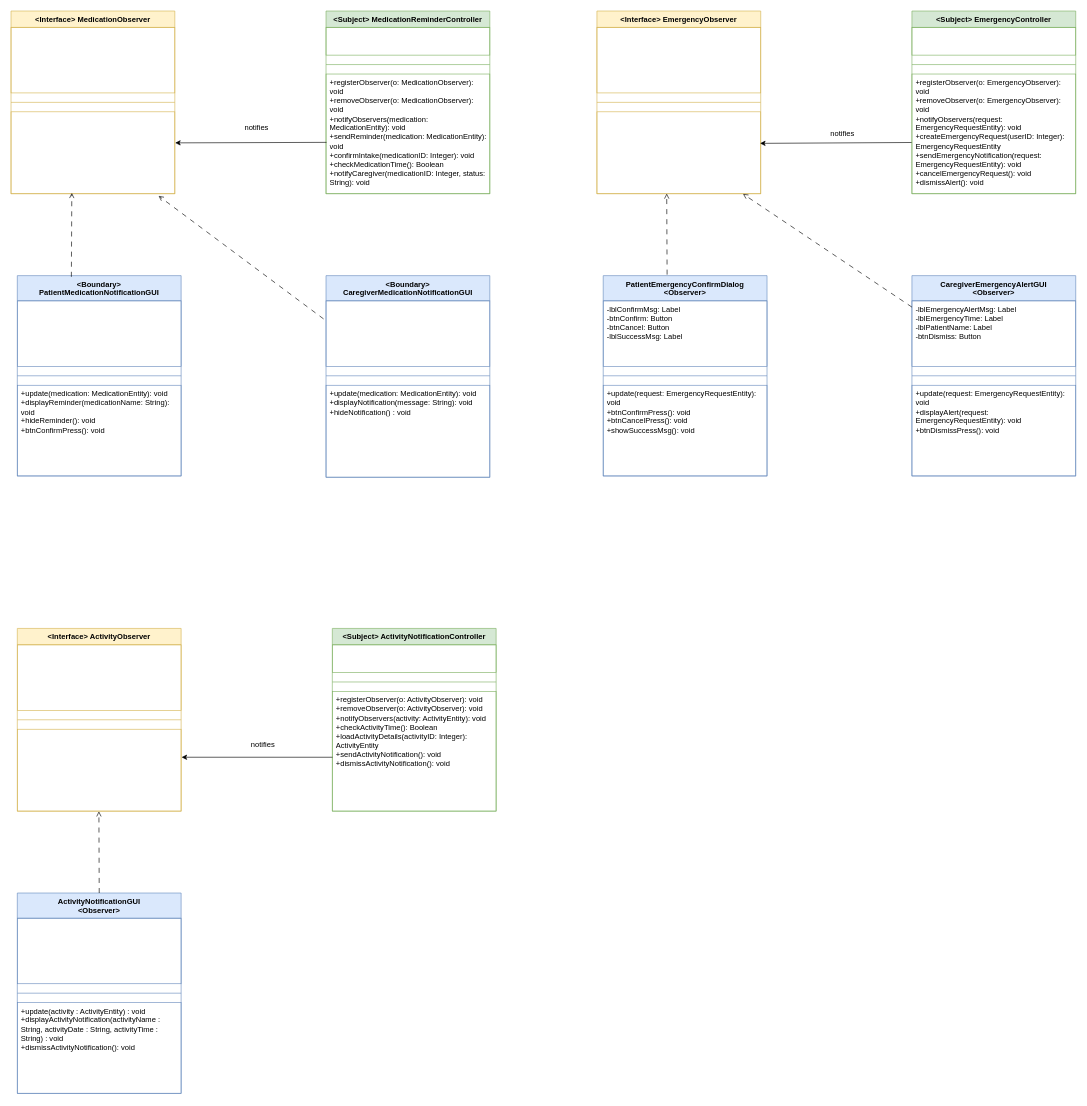
The diagram is 1087 pixels wide and 1106 high, and some of its shapes have lost their labels. Here are the shapes that lost their labels. From the top down, the centre of each, then its label:
(407,41): - observers: List<MedicationObserver>
(993,41): -observers: List<EmergencyObserver>
(92,152): + update(medication: MedicationEntity): void
(678,152): +update(request: EmergencyRequestEntity): void
(99,333): -lblMedicationName : Label -btnConfirm : Button
(407,333): -lblMessage : Label
(414,658): -observers: List<ActivityObserver>
(99,770): +update(activity: ActivityEntity): void
(99,951): -lblActivityName : Label -lblActivityDate : Label -lblActivityTime : Label
